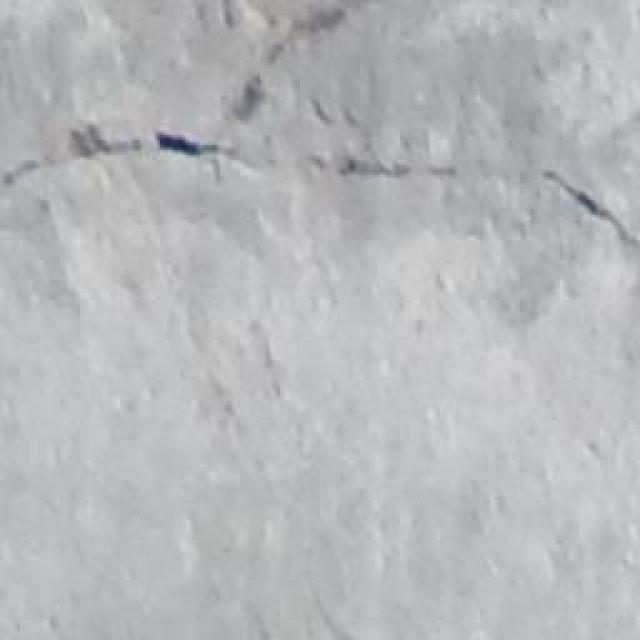concrete-crack: (0, 125, 254, 195), (545, 167, 640, 260), (313, 159, 416, 182)
